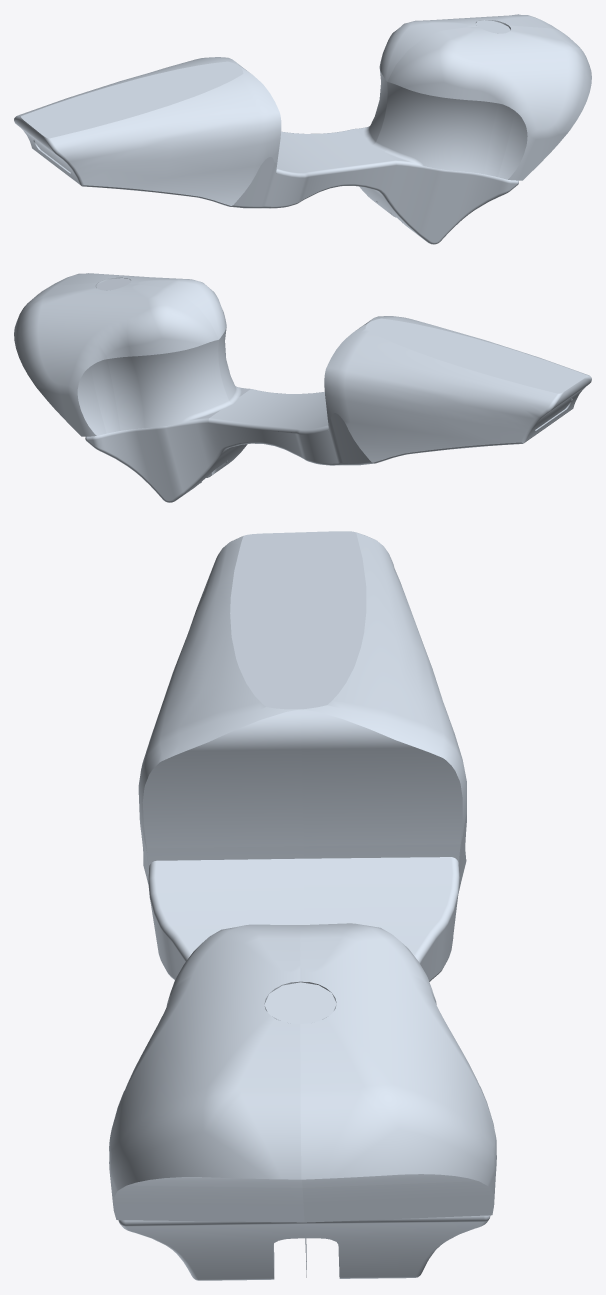
The model's file is RB-003_viewer.glb.
The picture shows the model from 3 angles, top to bottom: view 1: azimuth 30°, elevation 25°; view 2: azimuth 150°, elevation 25°; view 3: azimuth 270°, elevation 25°; orthographic projection. The views are drawn at different scales.
Visible parts, largest first — view 1: basebody_imported1; view 2: basebody_imported1; view 3: basebody_imported1.
Boxes of the visible parts, x1,y1,x2,y2 form: basebody_imported1: (14,14,591,244); basebody_imported1: (14,273,591,502); basebody_imported1: (109,531,496,1280).
Size of the model in its own units: 0.0871 by 0.0308 by 0.0268.
